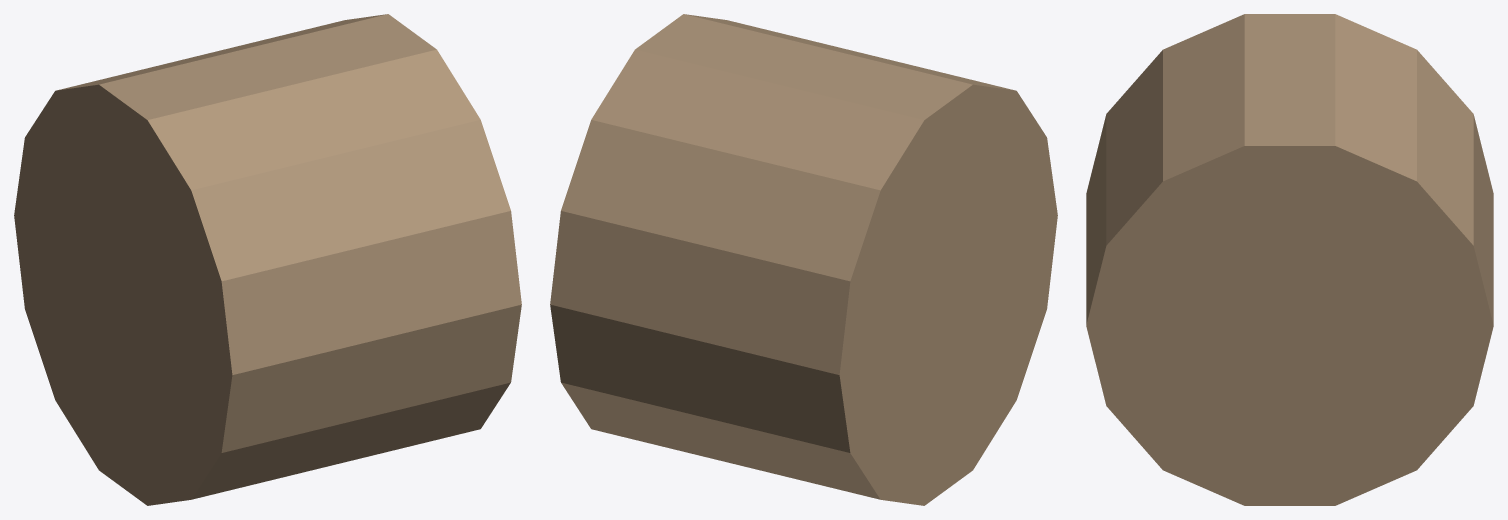
Rendered from BrotherBand.fbx.
The picture shows the model from 3 angles, left to right: view 1: azimuth 30°, elevation 25°; view 2: azimuth 150°, elevation 25°; view 3: azimuth 270°, elevation 25°; orthographic projection. The views are drawn at different scales.
Parts seen in each view (by area): view 1: BrotherBand; view 2: BrotherBand; view 3: BrotherBand.
Part boxes in pixels (left/top/right/bottom): BrotherBand: left=14, top=14, right=521, bottom=505; BrotherBand: left=550, top=14, right=1057, bottom=505; BrotherBand: left=1086, top=14, right=1493, bottom=505.
Bounding box in the file's own units: 3.2 × 4.08 × 4.18.
